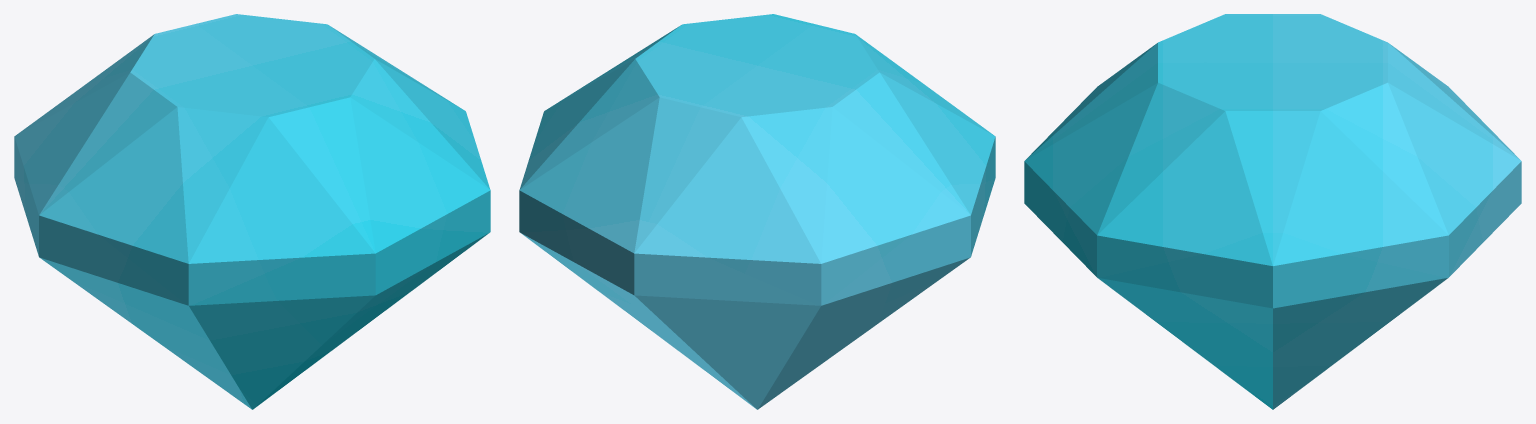
File: jewel.fbx
The picture shows the model from 3 angles, left to right: view 1: azimuth 30°, elevation 25°; view 2: azimuth 150°, elevation 25°; view 3: azimuth 270°, elevation 25°; orthographic projection.
Visible parts, largest first — view 1: gem_08; view 2: gem_08; view 3: gem_08.
Boxes of the visible parts, left/top/right/bottom form: gem_08: left=14, top=14, right=490, bottom=409; gem_08: left=519, top=14, right=995, bottom=409; gem_08: left=1024, top=14, right=1521, bottom=409.
Bounding box in the file's own units: 10 × 10 × 7.71.
1 material, 1 textured.
